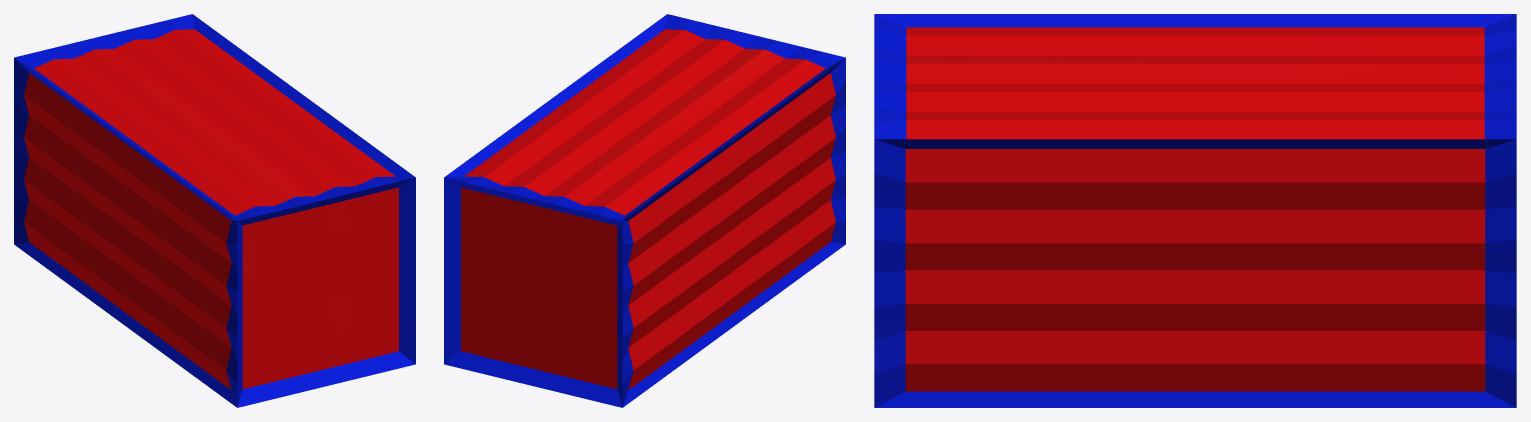
Rendered from ShippingCrate.fbx.
The picture shows the model from 3 angles, left to right: view 1: azimuth 30°, elevation 25°; view 2: azimuth 150°, elevation 25°; view 3: azimuth 270°, elevation 25°; orthographic projection. The views are drawn at different scales.
Visible parts, largest first — view 1: Cube; view 2: Cube; view 3: Cube.
Boxes of the visible parts, x1=… form: Cube: x1=14, y1=14, x2=415, y2=407; Cube: x1=444, y1=14, x2=845, y2=407; Cube: x1=874, y1=14, x2=1516, y2=407.
Bounding box in the file's own units: 1.38 × 1.38 × 2.99.
